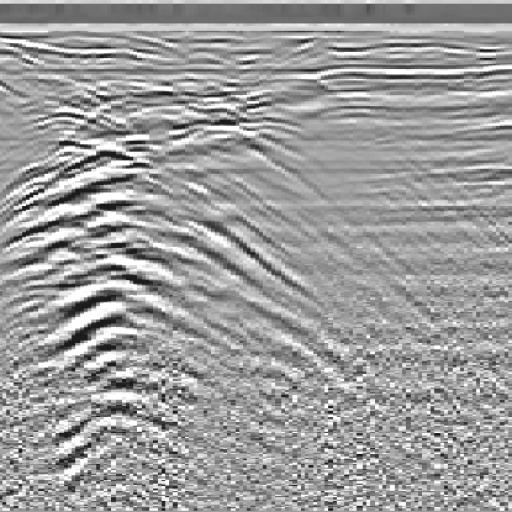metalic: (1, 82, 322, 406)
